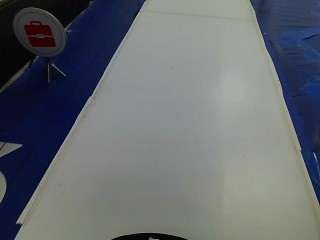company: (10, 6, 71, 56)
